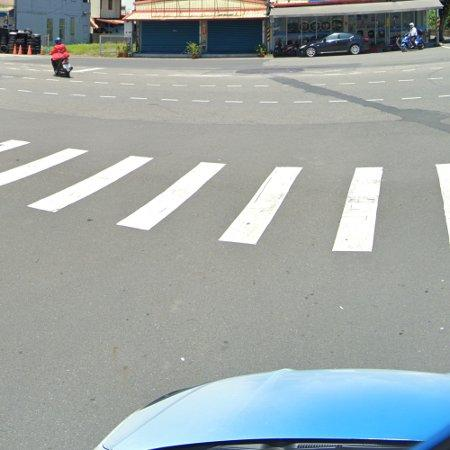crosswalks: (0, 136, 450, 252)
